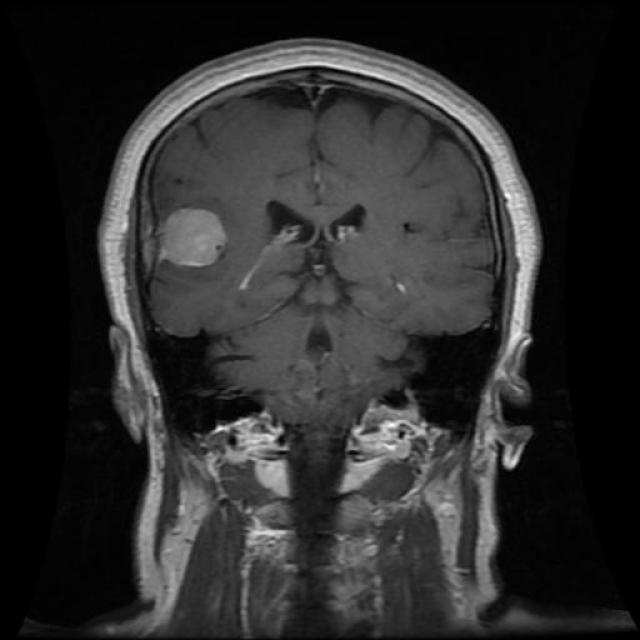meningioma: (162, 210, 226, 265)
